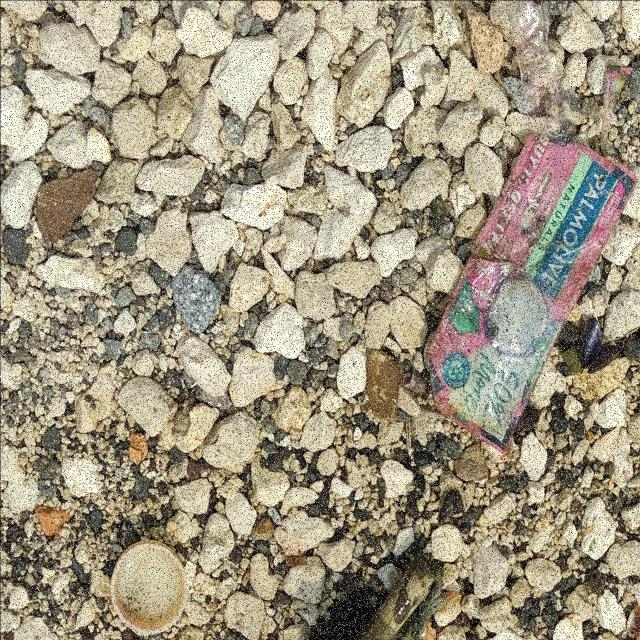plastic_waste: (426, 131, 637, 453), (110, 541, 188, 635)
